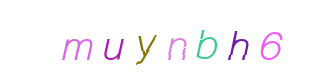6: (166, 0, 246, 80)
B: (136, 0, 216, 80)
H: (146, 0, 226, 80)
M: (105, 0, 185, 80)
N: (135, 0, 215, 80)
U: (127, 0, 207, 80)
Y: (130, 0, 210, 80)
